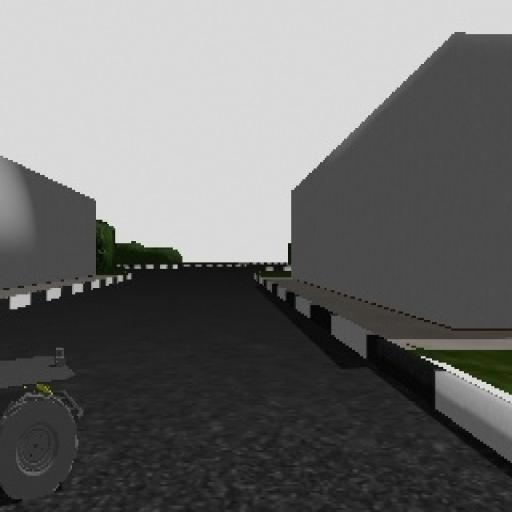huskya200: (0, 276, 92, 512)
